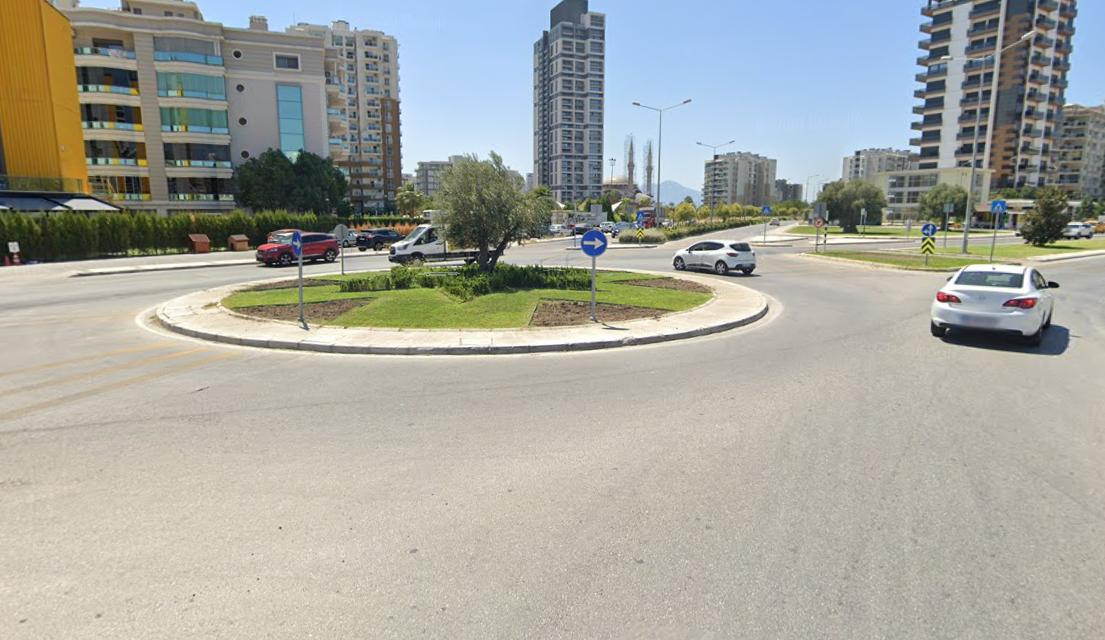turnright: (580, 227, 609, 257)
